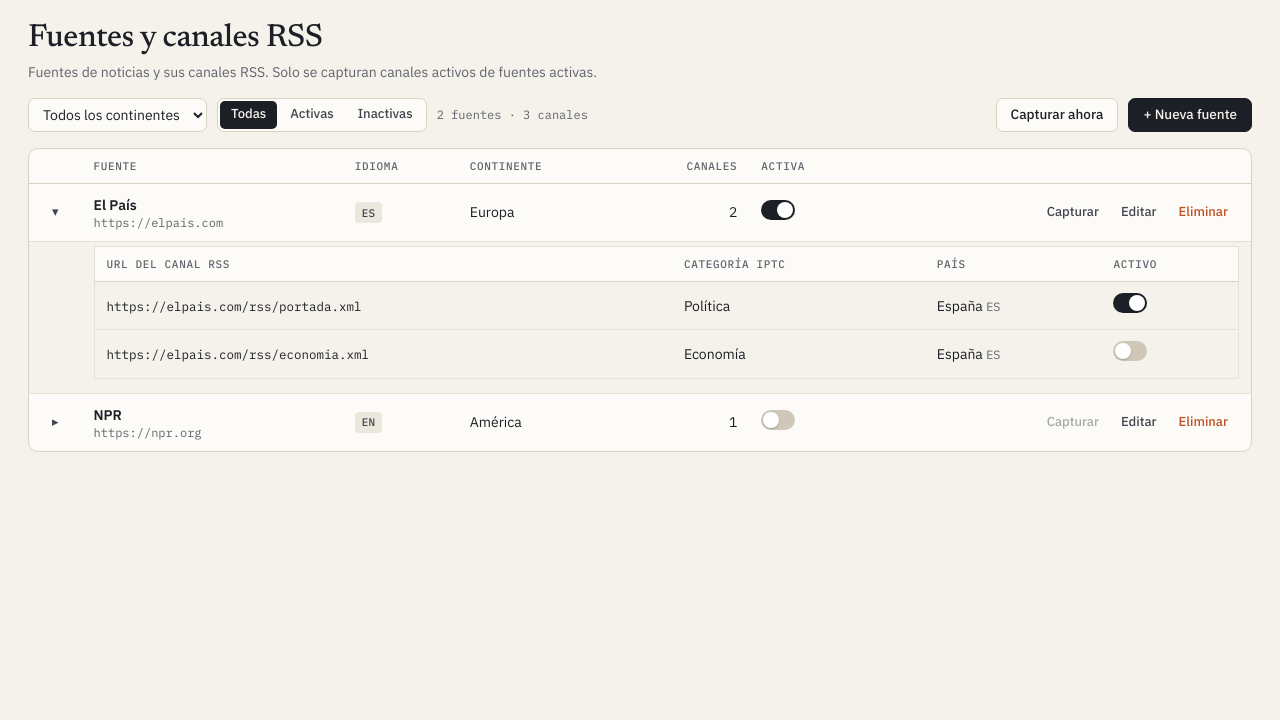
SourcesPage › rolls back channel switch if patchChannel fails
Click the switch named "Activar El País": coordinates (778, 210) [761, 200, 795, 220]
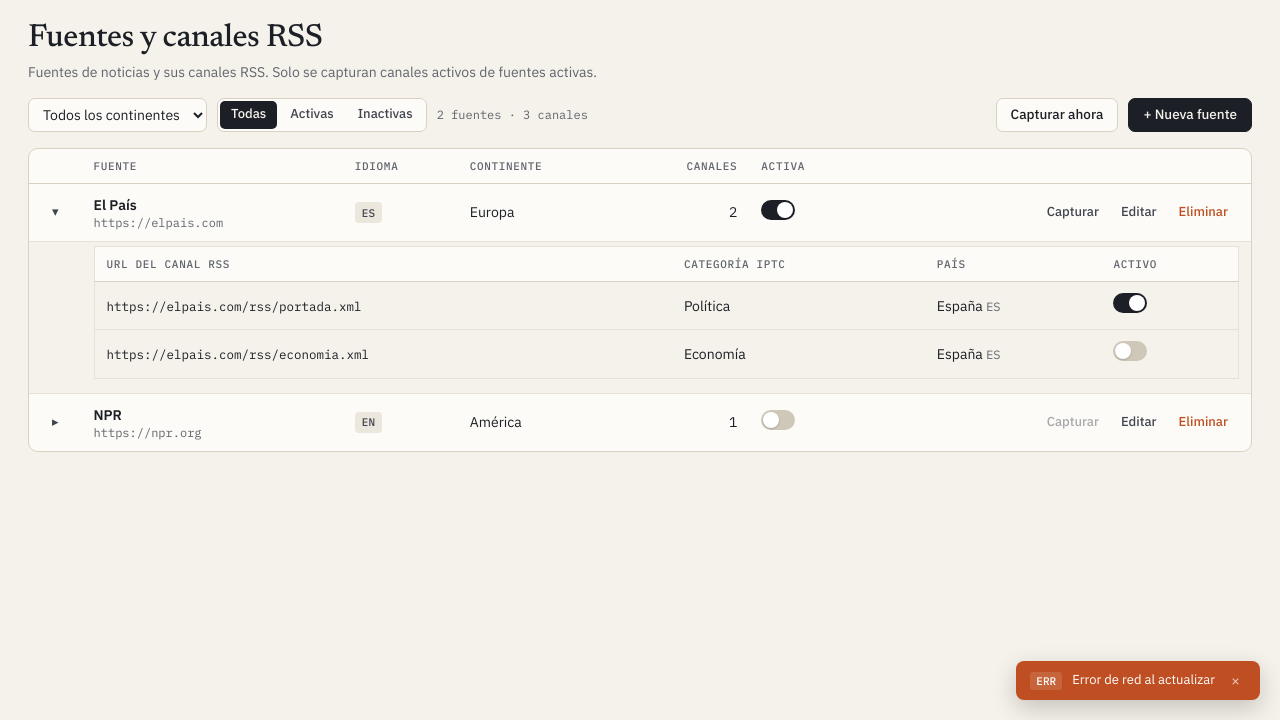
Result: the text "Error de red al actualizar" is shown at [1072, 671, 1215, 690]
